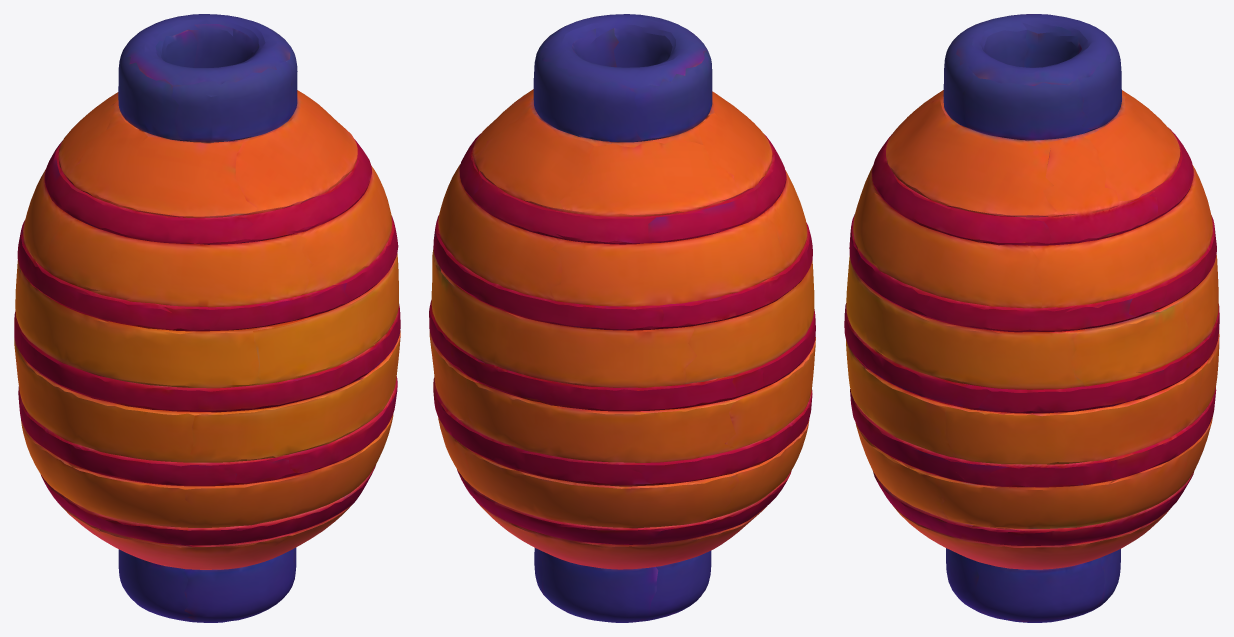
The model's file is lantern.glb.
3 views of the same model, side by side, from view 1: azimuth 30°, elevation 25°; view 2: azimuth 150°, elevation 25°; view 3: azimuth 270°, elevation 25° (orthographic).
Parts seen in each view (by area): view 1: Mesh; view 2: Mesh; view 3: Mesh.
Boxes of the visible parts, bbox=[...] form: Mesh: bbox=[14, 14, 400, 622]; Mesh: bbox=[429, 14, 815, 622]; Mesh: bbox=[844, 14, 1219, 622].
Bounding box in the file's own units: 0.6369 × 1 × 0.6138.
Materials: 1 (1 with a texture image).
